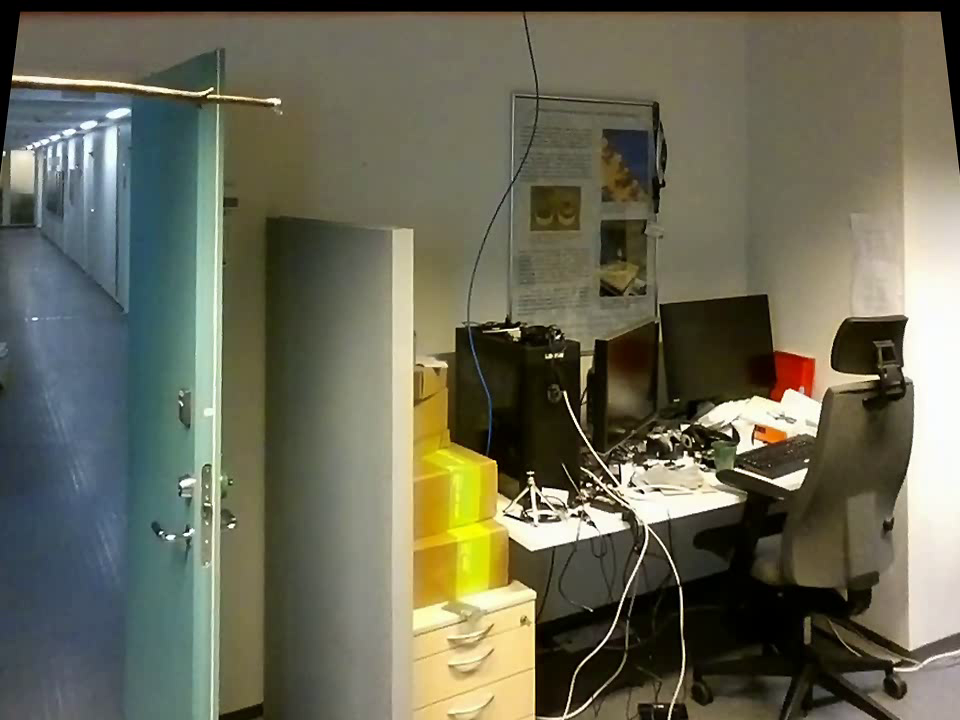branch: (9, 62, 264, 114)
